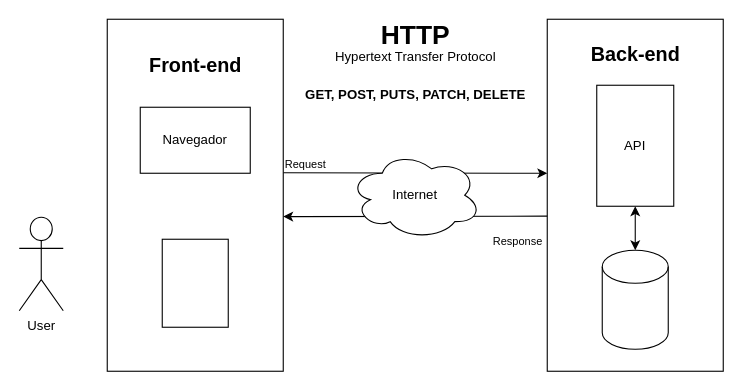
The diagram is 743 pixels wide and 391 high, and some of its shapes have lost their labels. The centre of each missing label's shape, as x and y in pixels:
App: point (194, 282)
Database: point (634, 299)
